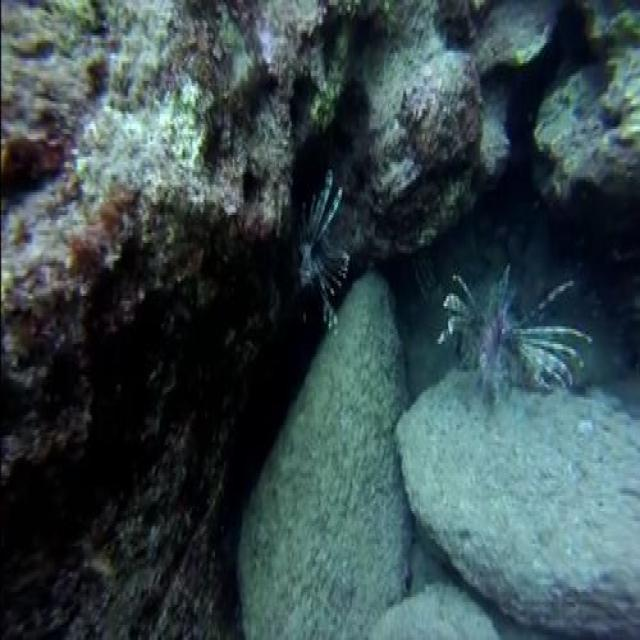Aslan Baligi: (432, 238, 592, 427), (285, 164, 358, 343)
